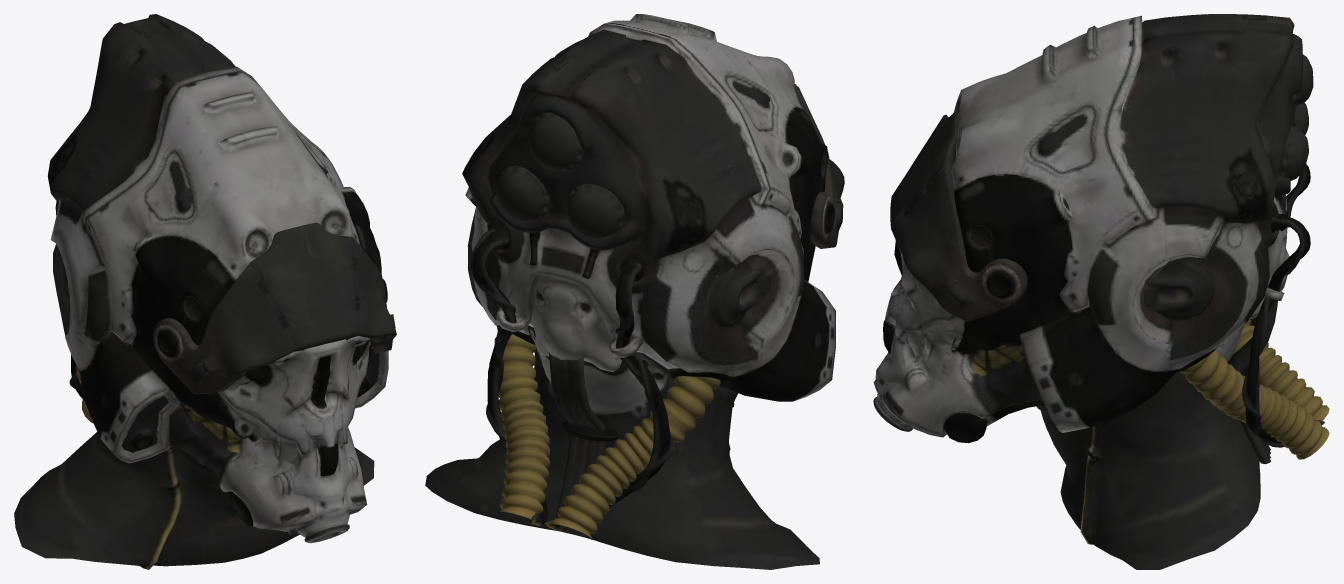
File: scifi-helmet-cc0.glb
3 renders of one model, left to right at view 1: azimuth 30°, elevation 25°; view 2: azimuth 150°, elevation 25°; view 3: azimuth 270°, elevation 25°, orthographic. The views are drawn at different scales.
Parts seen in each view (by area): view 1: SciFiHelmet; view 2: SciFiHelmet; view 3: SciFiHelmet.
Boxes of the visible parts, x1,y1,x2,y2 form: SciFiHelmet: (14, 14, 396, 569); SciFiHelmet: (425, 14, 844, 569); SciFiHelmet: (873, 14, 1329, 569).
Size of the model in its own units: 2.3 by 2.92 by 2.5.
1 material, 1 textured.
